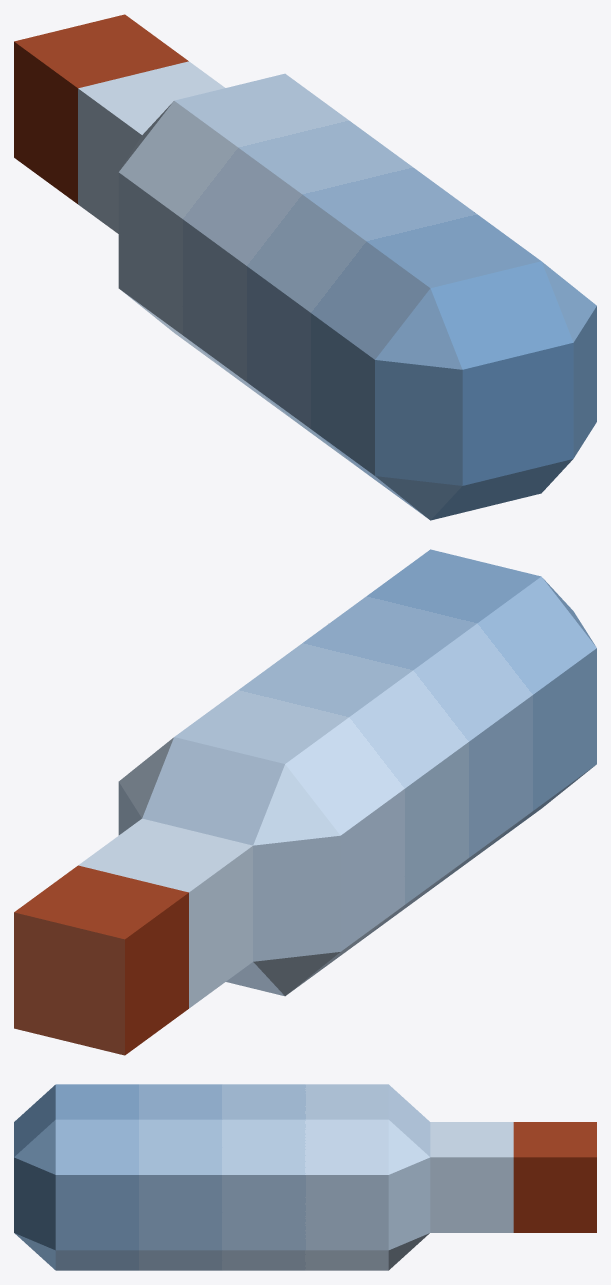
File: deco_bottle_side_opaquecentered.obj
The picture shows the model from 3 angles, top to bottom: view 1: azimuth 30°, elevation 25°; view 2: azimuth 150°, elevation 25°; view 3: azimuth 270°, elevation 25°; orthographic projection. The views are drawn at different scales.
Parts seen in each view (by area): view 1: BOTTLE_SIDE_OPAQUECENTERED_Cube.003; view 2: BOTTLE_SIDE_OPAQUECENTERED_Cube.003; view 3: BOTTLE_SIDE_OPAQUECENTERED_Cube.003.
Boxes of the visible parts, x1,y1,x2,y2 form: BOTTLE_SIDE_OPAQUECENTERED_Cube.003: (14,14,596,520); BOTTLE_SIDE_OPAQUECENTERED_Cube.003: (14,549,596,1055); BOTTLE_SIDE_OPAQUECENTERED_Cube.003: (14,1084,596,1270).
Size of the model in its own units: 0.125 by 0.125 by 0.4375.
